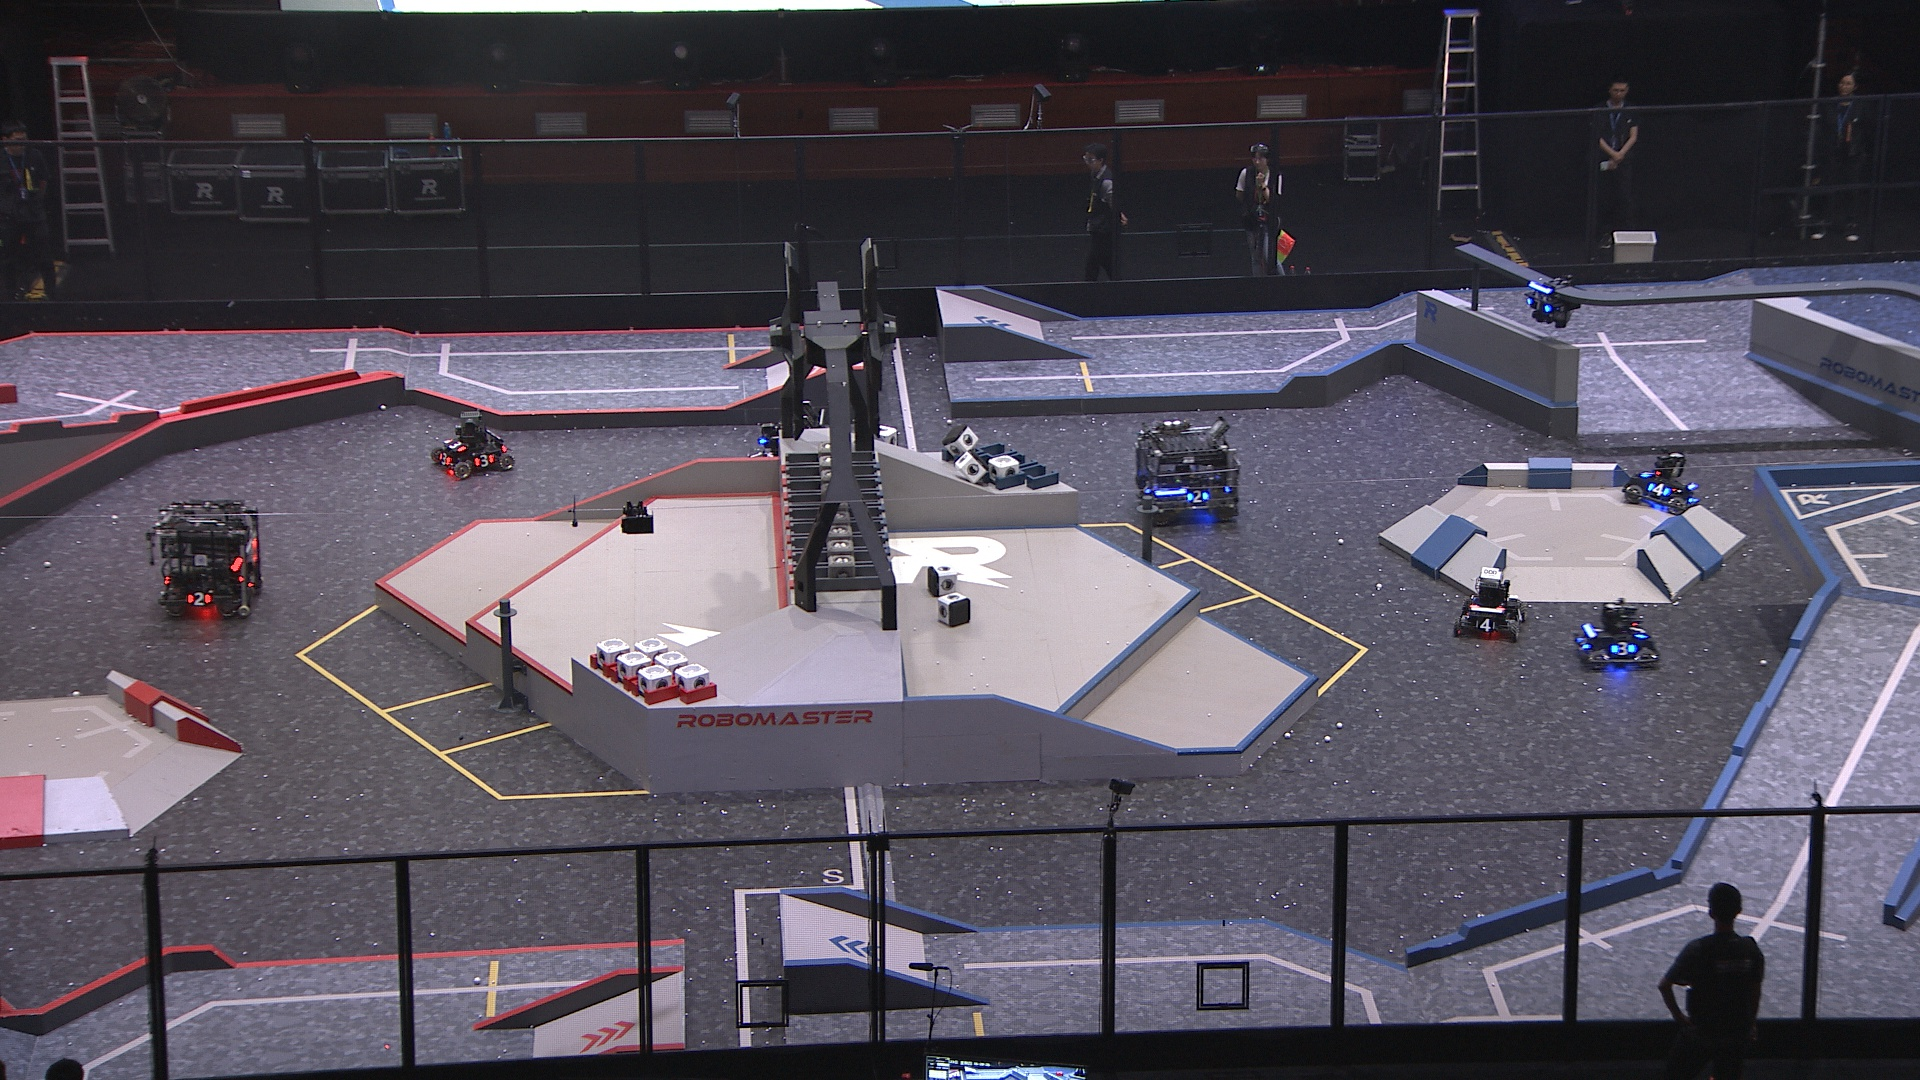armor: (1527, 294, 1552, 315), (185, 589, 212, 607), (1648, 481, 1673, 498), (1627, 621, 1647, 641), (475, 452, 498, 467), (1474, 617, 1498, 632), (1185, 491, 1211, 504), (443, 438, 465, 452), (1610, 644, 1636, 655), (1138, 479, 1153, 498), (746, 447, 765, 462), (436, 451, 451, 467), (1577, 636, 1592, 650), (1515, 605, 1524, 621)
car: (150, 498, 262, 622), (1133, 413, 1244, 524), (744, 394, 841, 480), (1575, 597, 1660, 671), (429, 407, 517, 477), (1619, 448, 1700, 517), (1453, 562, 1524, 637)
watcher: (1523, 272, 1584, 334)
